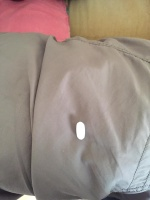Centik Buskopan: (75, 121, 87, 141)
